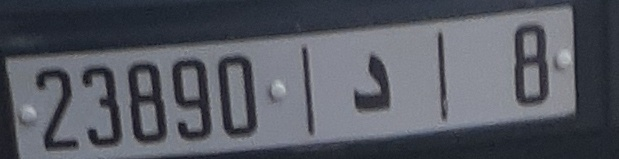0: (217, 45, 262, 143)
2: (36, 60, 79, 153)
3: (81, 53, 121, 152)
8: (508, 17, 555, 110), (125, 58, 168, 150)
9: (168, 53, 216, 147)
d: (344, 41, 404, 118)
